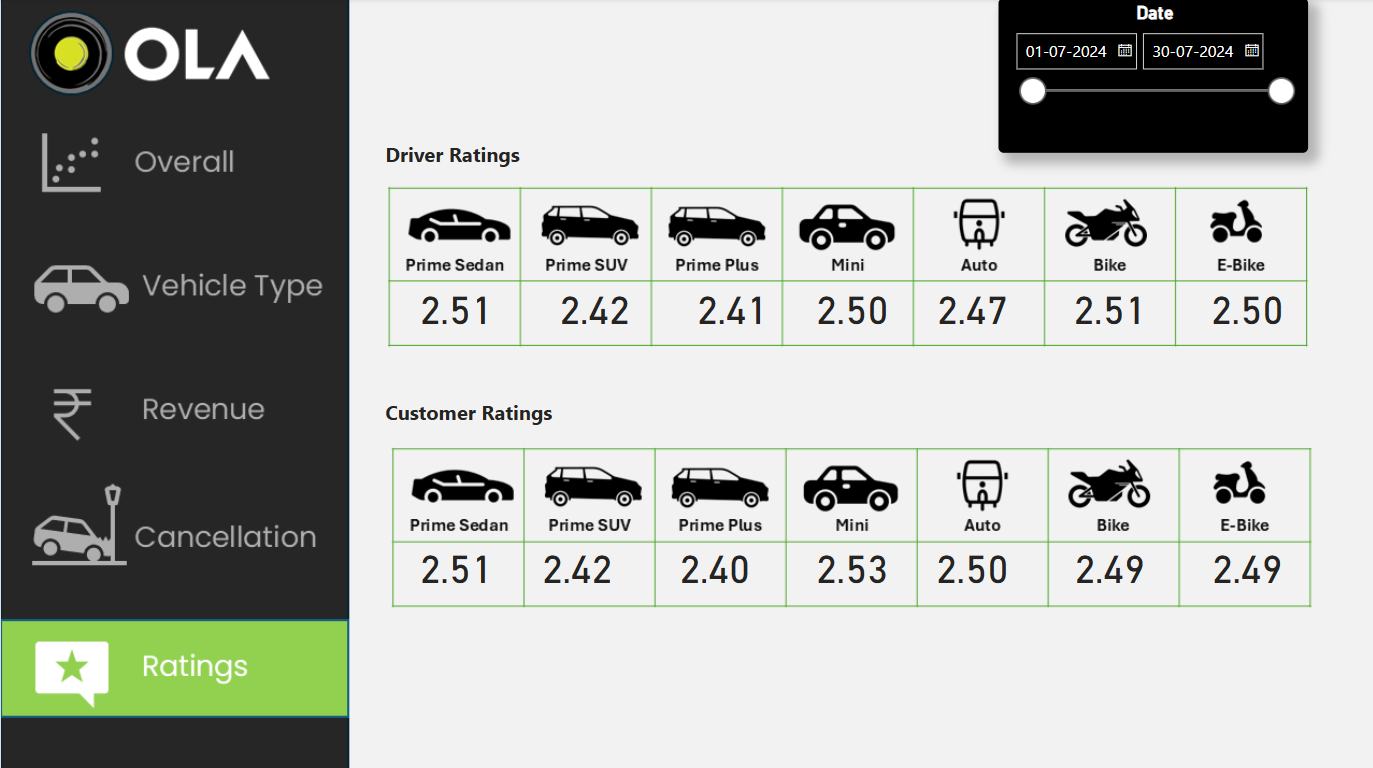

The dashboard page shown, as its layout file describes it:
{"tool":"powerbi","page":{"name":"Ratings","canvas":[1280,720],"ordinal":4},"visuals":[{"type":"actionButton","box":[0,208,320,96],"z":0},{"type":"actionButton","box":[0,336,320,96],"z":1000},{"type":"actionButton","box":[0,464,320,80],"z":2000},{"type":"actionButton","box":[0,592,320,80],"z":3000},{"type":"actionButton","box":[0,112,320,80],"z":4000},{"type":"card","fields":{"Values":["Avg(ola bookings.Driver_Ratings)"]},"box":[368,256,112,64],"z":5000},{"type":"card","fields":{"Values":["Avg(ola bookings.Driver_Ratings)"]},"box":[496,256,112,64],"z":6000},{"type":"card","fields":{"Values":["Avg(ola bookings.Driver_Ratings)"]},"box":[624,256,112,64],"z":7000},{"type":"card","fields":{"Values":["Avg(ola bookings.Driver_Ratings)"]},"box":[736,256,112,64],"z":8000},{"type":"card","fields":{"Values":["Avg(ola bookings.Driver_Ratings)"]},"box":[848,256,112,64],"z":9000},{"type":"card","fields":{"Values":["Avg(ola bookings.Driver_Ratings)"]},"box":[976,256,112,64],"z":10000},{"type":"card","fields":{"Values":["Avg(ola bookings.Driver_Ratings)"]},"box":[1104,256,112,64],"z":11000},{"type":"card","fields":{"Values":["Avg(ola bookings.Customer_Rating)"]},"box":[368,496,112,64],"z":12000},{"type":"card","fields":{"Values":["Avg(ola bookings.Customer_Rating)"]},"box":[480,496,112,64],"z":13000},{"type":"card","fields":{"Values":["Avg(ola bookings.Customer_Rating)"]},"box":[608,496,112,64],"z":14000},{"type":"card","fields":{"Values":["Avg(ola bookings.Customer_Rating)"]},"box":[736,480,112,96],"z":15000},{"type":"card","fields":{"Values":["Avg(ola bookings.Customer_Rating)"]},"box":[848,496,112,64],"z":16000},{"type":"card","fields":{"Values":["Avg(ola bookings.Customer_Rating)"]},"box":[976,496,112,64],"z":17000},{"type":"card","fields":{"Values":["Avg(ola bookings.Customer_Rating)"]},"box":[1104,496,112,64],"z":18000},{"type":"textbox","box":[352,128,144,48],"z":19000},{"type":"textbox","box":[352,368,192,112],"z":20000},{"type":"slicer","title":"Date","fields":{"Values":["ola bookings.Date"]},"box":[928,0,288,144],"z":21000}]}

Visuals, with their boxes in screenshot pixels (x1, y1, x2, y2), scaled from the page's 1280x720 canvas onto the 1373x768 screenshot:
actionButton: x1=0, y1=222, x2=343, y2=324
actionButton: x1=0, y1=358, x2=343, y2=461
actionButton: x1=0, y1=495, x2=343, y2=580
actionButton: x1=0, y1=631, x2=343, y2=717
actionButton: x1=0, y1=119, x2=343, y2=205
card - Avg(ola bookings.Driver_Ratings): x1=395, y1=273, x2=515, y2=341
card - Avg(ola bookings.Driver_Ratings): x1=532, y1=273, x2=652, y2=341
card - Avg(ola bookings.Driver_Ratings): x1=669, y1=273, x2=789, y2=341
card - Avg(ola bookings.Driver_Ratings): x1=789, y1=273, x2=910, y2=341
card - Avg(ola bookings.Driver_Ratings): x1=910, y1=273, x2=1030, y2=341
card - Avg(ola bookings.Driver_Ratings): x1=1047, y1=273, x2=1167, y2=341
card - Avg(ola bookings.Driver_Ratings): x1=1184, y1=273, x2=1304, y2=341
card - Avg(ola bookings.Customer_Rating): x1=395, y1=529, x2=515, y2=597
card - Avg(ola bookings.Customer_Rating): x1=515, y1=529, x2=635, y2=597
card - Avg(ola bookings.Customer_Rating): x1=652, y1=529, x2=772, y2=597
card - Avg(ola bookings.Customer_Rating): x1=789, y1=512, x2=910, y2=614
card - Avg(ola bookings.Customer_Rating): x1=910, y1=529, x2=1030, y2=597
card - Avg(ola bookings.Customer_Rating): x1=1047, y1=529, x2=1167, y2=597
card - Avg(ola bookings.Customer_Rating): x1=1184, y1=529, x2=1304, y2=597
textbox: x1=378, y1=137, x2=532, y2=188
textbox: x1=378, y1=393, x2=584, y2=512
"Date" slicer: x1=995, y1=0, x2=1304, y2=154
